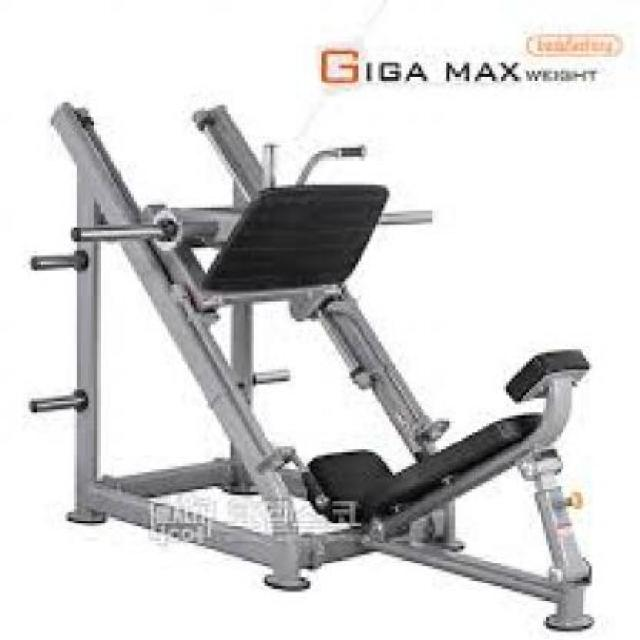leg press: (20, 74, 637, 640)
